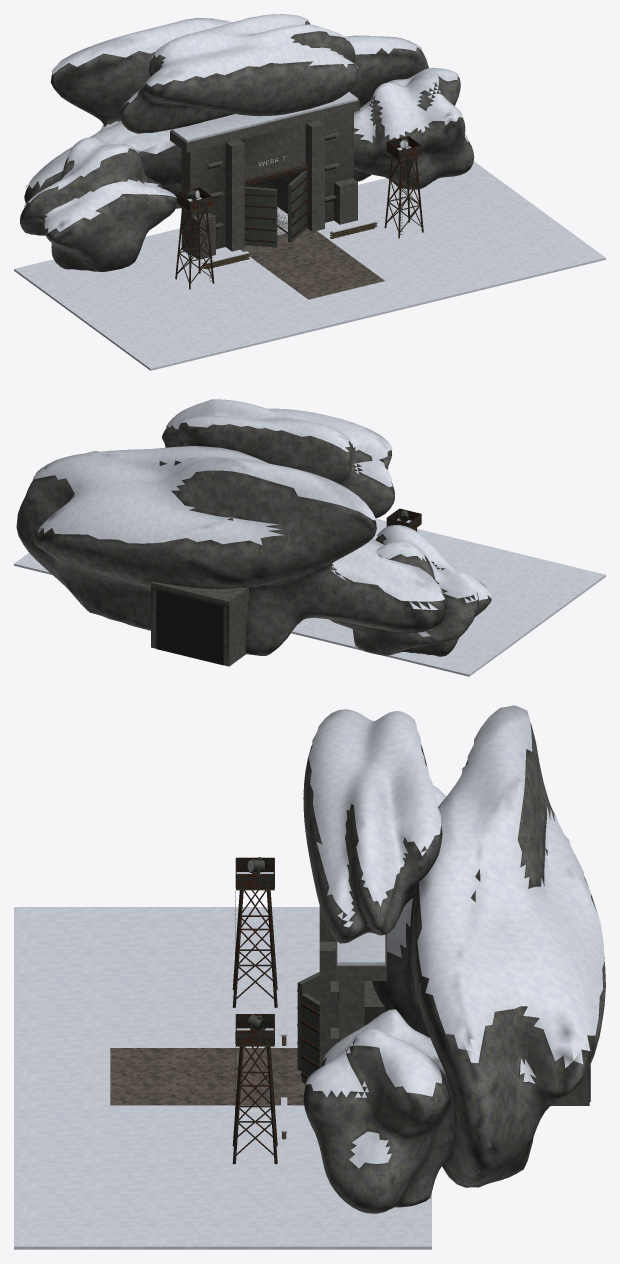
File: fortress_gate.glb
3 renders of one model, top to bottom at view 1: azimuth 30°, elevation 25°; view 2: azimuth 150°, elevation 25°; view 3: azimuth 270°, elevation 25°, orthographic. The views are drawn at different scales.
Parts seen in each view (by area): view 1: FortressGate, Door_Left, Door_Right; view 2: FortressGate; view 3: FortressGate, Door_Right, Door_Left.
Boxes of the visible parts, x1,y1,x2,y2 form: FortressGate: (14, 14, 605, 370); Door_Left: (244, 186, 277, 247); Door_Right: (288, 171, 307, 242); FortressGate: (14, 399, 605, 676); FortressGate: (14, 705, 605, 1249); Door_Right: (301, 993, 319, 1083); Door_Left: (297, 972, 319, 1070).
Bounding box in the file's own units: 50 × 21.32 × 36.81.
14 materials, 11 textured.
